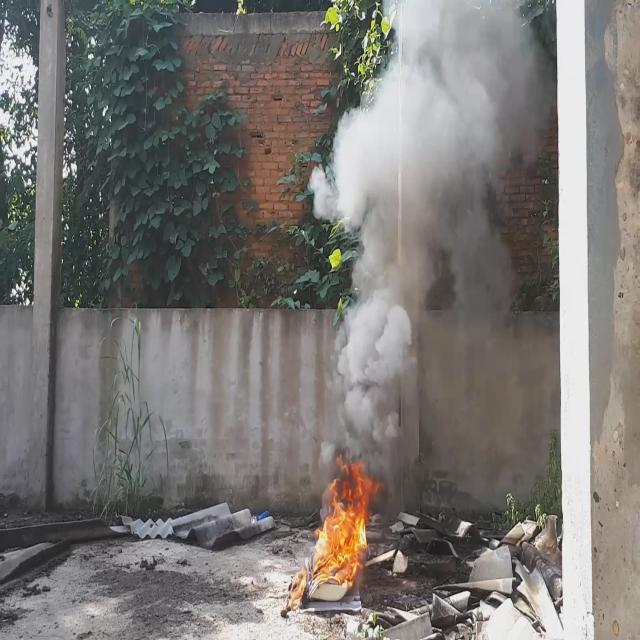Fire: (314, 448, 382, 584)
Smoke: (313, 0, 552, 515)
